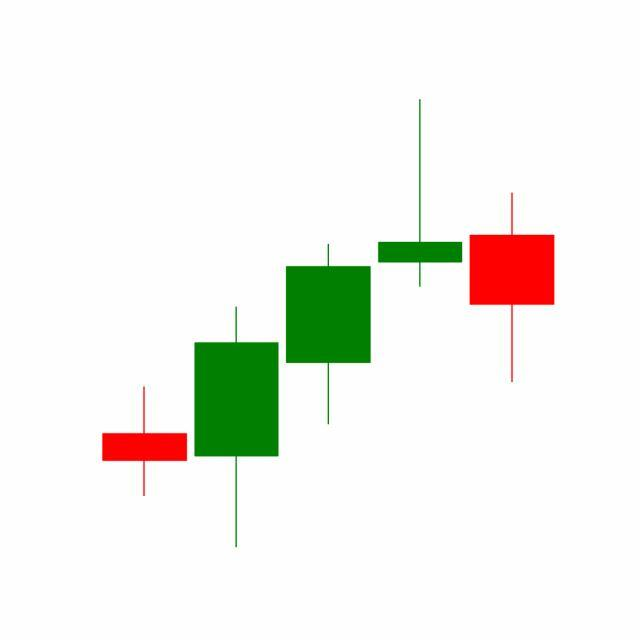Evening Star: (280, 99, 555, 430)
